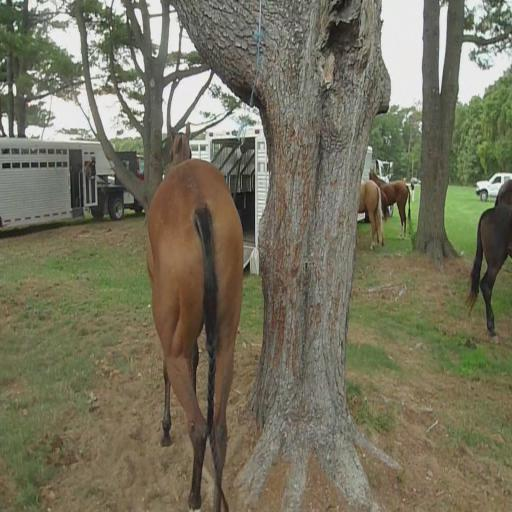horse: (146, 120, 246, 512), (466, 199, 512, 338), (367, 164, 412, 240), (358, 178, 386, 251), (493, 176, 512, 260), (494, 178, 512, 204)
